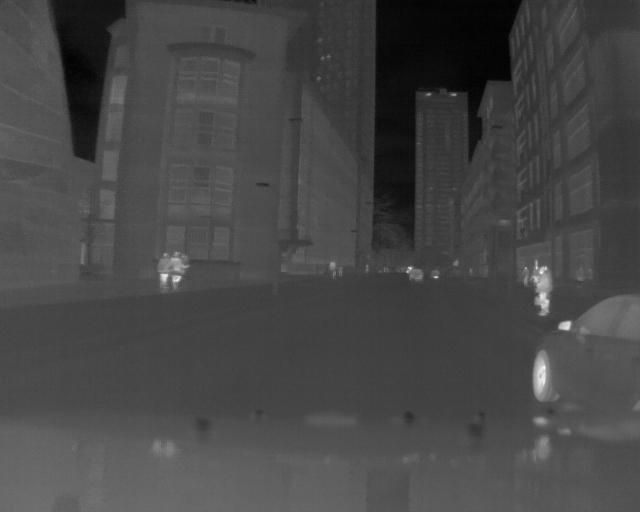car: (528, 295, 639, 409), (408, 265, 423, 281), (432, 266, 444, 282)
person: (535, 262, 552, 315), (156, 250, 170, 293), (171, 250, 184, 291), (523, 262, 531, 286)
